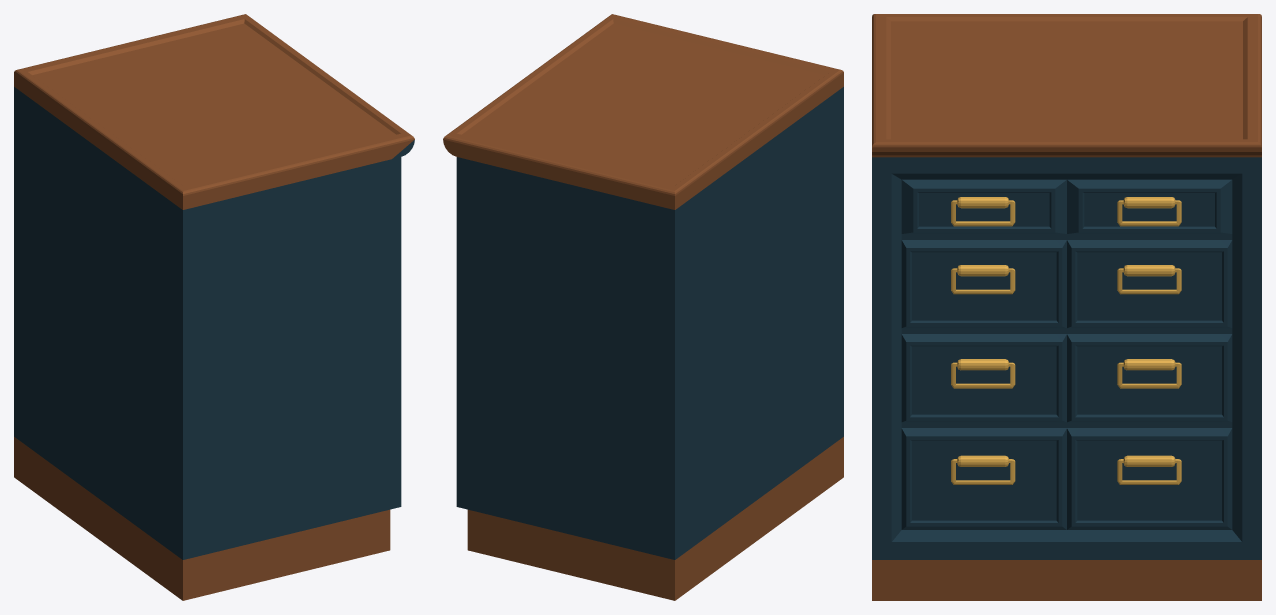
Rendered from KitchenModule_1.fbx.
The picture shows the model from 3 angles, left to right: view 1: azimuth 30°, elevation 25°; view 2: azimuth 150°, elevation 25°; view 3: azimuth 270°, elevation 25°; orthographic projection. The views are drawn at different scales.
Visible parts, largest first — view 1: KitchenModule-1; view 2: KitchenModule-1; view 3: KitchenModule-1, Handle.002, Handle, Handle.001, Handle.005, Handle.004, Handle.006, Handle.003, Handle.007.
Part boxes in pixels (left/top/right/bottom): KitchenModule-1: left=14, top=14, right=414, bottom=600; KitchenModule-1: left=443, top=14, right=843, bottom=600; KitchenModule-1: left=872, top=14, right=1261, bottom=600; Handle.002: left=1117, top=359, right=1181, bottom=388; Handle: left=1117, top=197, right=1181, bottom=226; Handle.001: left=1117, top=265, right=1181, bottom=294; Handle.005: left=951, top=265, right=1015, bottom=294; Handle.004: left=951, top=197, right=1015, bottom=226; Handle.006: left=951, top=359, right=1015, bottom=388; Handle.003: left=1117, top=455, right=1181, bottom=484; Handle.007: left=951, top=455, right=1015, bottom=484.
Size of the model in its own units: 119 by 200 by 150.
